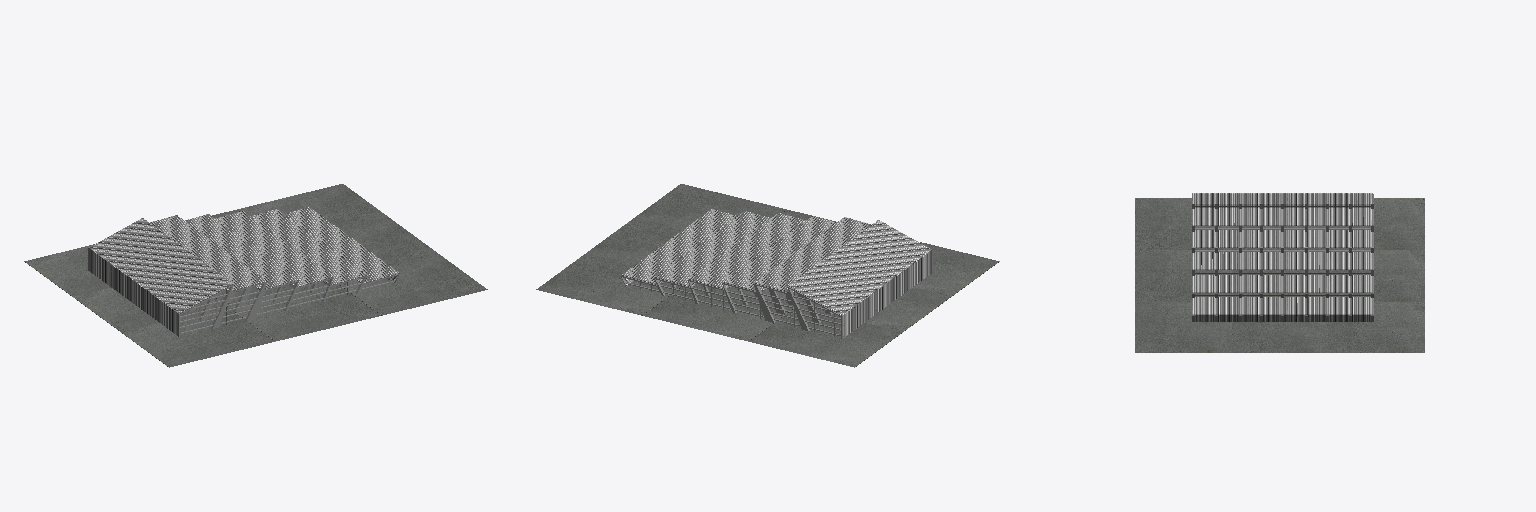
The picture shows the model from 3 angles: view 1: azimuth 30°, elevation 25°; view 2: azimuth 150°, elevation 25°; view 3: azimuth 270°, elevation 25°; orthographic projection.
Parts seen in each view (by area): view 1: Plane001, Box013, Box014, Box038; view 2: Plane001, Box013, Box014, Box040; view 3: Plane001, Box013, Box014.
Part boxes in pixels (x1,y1,x2,y2): Plane001: (24, 184, 487, 367); Box013: (89, 207, 399, 336); Box014: (88, 209, 399, 336); Box038: (180, 277, 394, 334); Plane001: (536, 184, 999, 367); Box013: (622, 209, 931, 337); Box014: (621, 225, 932, 338); Box040: (626, 282, 840, 336); Plane001: (1135, 198, 1424, 352); Box013: (1192, 193, 1372, 321); Box014: (1192, 194, 1373, 321).
Size of the model in its own units: 348 by 42.68 by 274.
Materials: 4 (2 with a texture image).